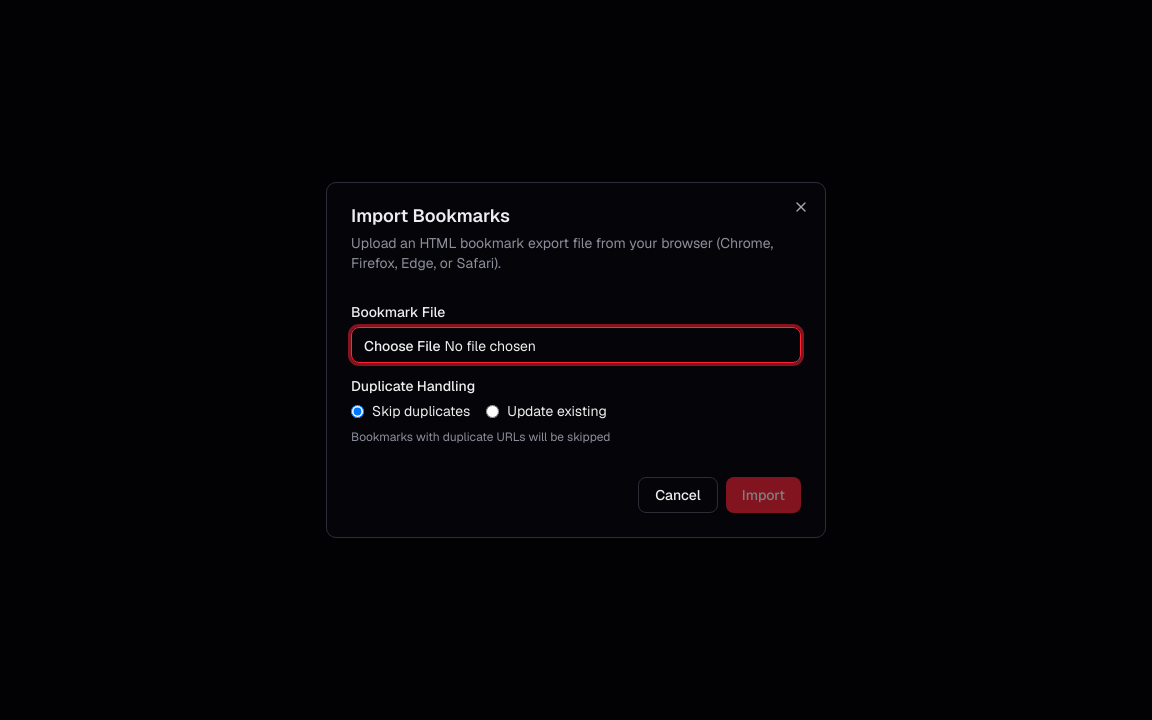
Test case: ImportBookmarksDialog › should allow changing duplicate strategy
Click the radio button labelled "Update existing" at (493, 411), box [486, 404, 499, 418]
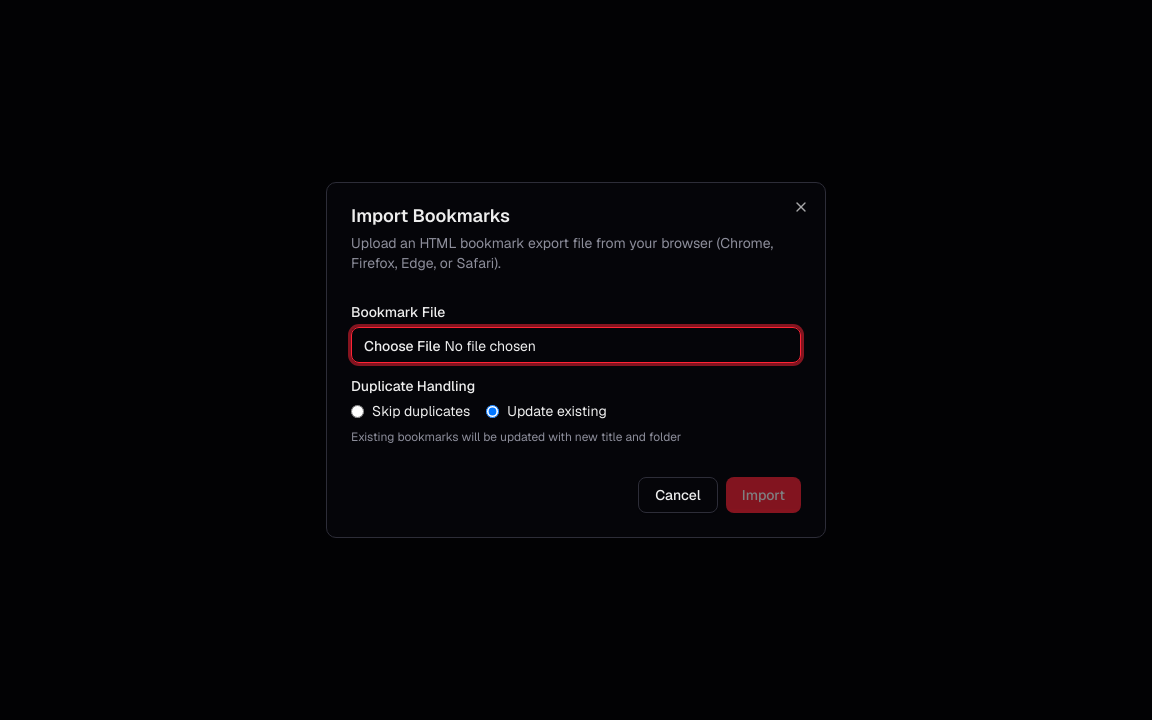
Result: the radio button labelled "Update existing" is checked at [486, 404, 499, 418]
Result: the text "Existing bookmarks will be updated with new title and folder" is shown at [351, 429, 681, 445]
